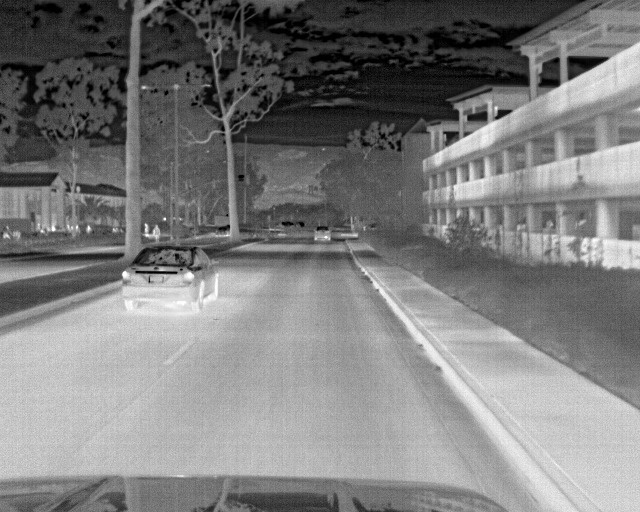vehicle: (120, 244, 221, 311), (315, 226, 331, 242)
